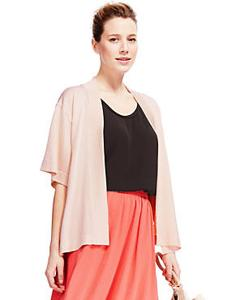S_cardigan sweater: (40, 75, 187, 256)
